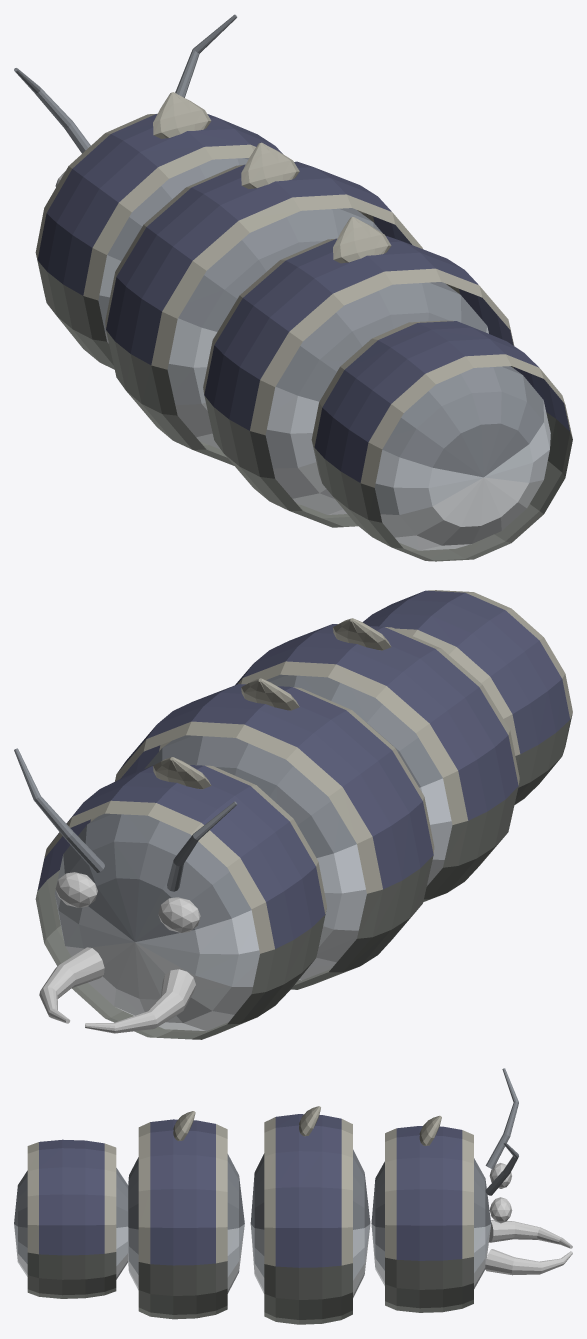
The model's file is CreatureCrawler.obj.
The picture shows the model from 3 angles, top to bottom: view 1: azimuth 30°, elevation 25°; view 2: azimuth 150°, elevation 25°; view 3: azimuth 270°, elevation 25°; orthographic projection. The views are drawn at different scales.
Bounding box in the file's own units: 2.37 × 2.38 × 5.79.
